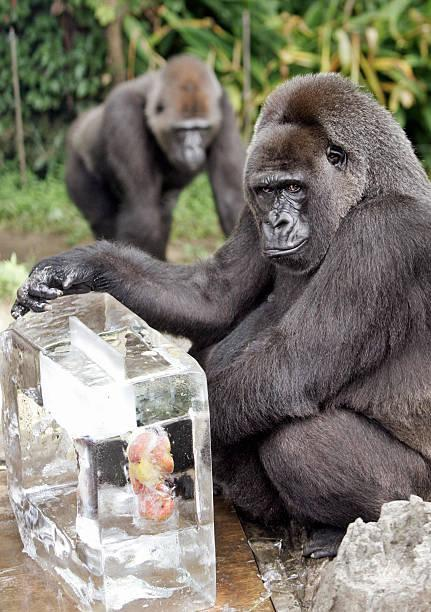gorille_Autres: (218, 79, 431, 523), (47, 41, 261, 283)
